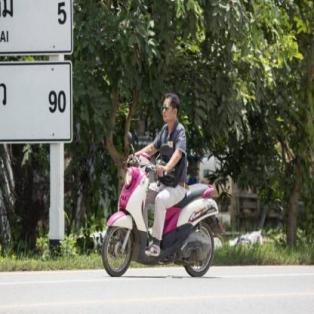Motocicleta: (100, 141, 218, 282)
